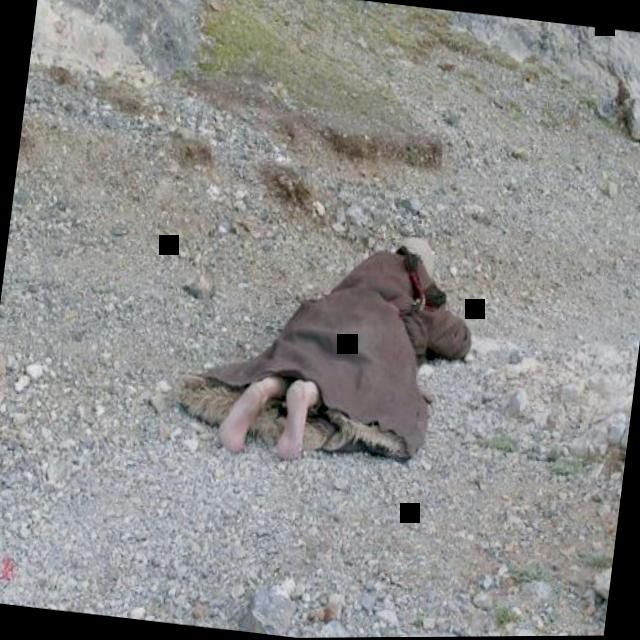Fall-Detected: (170, 205, 508, 491)
